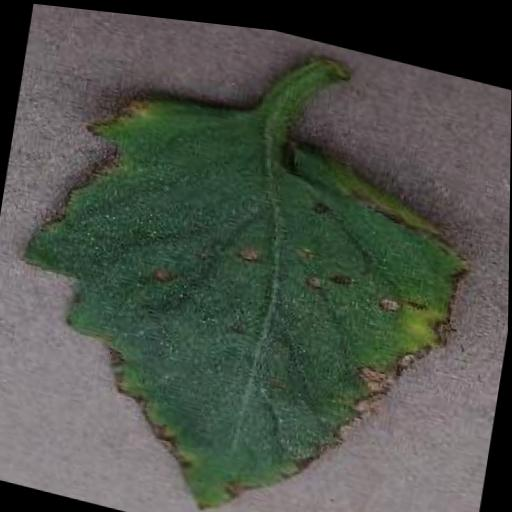Bacterial Spot: (0, 49, 489, 512)
